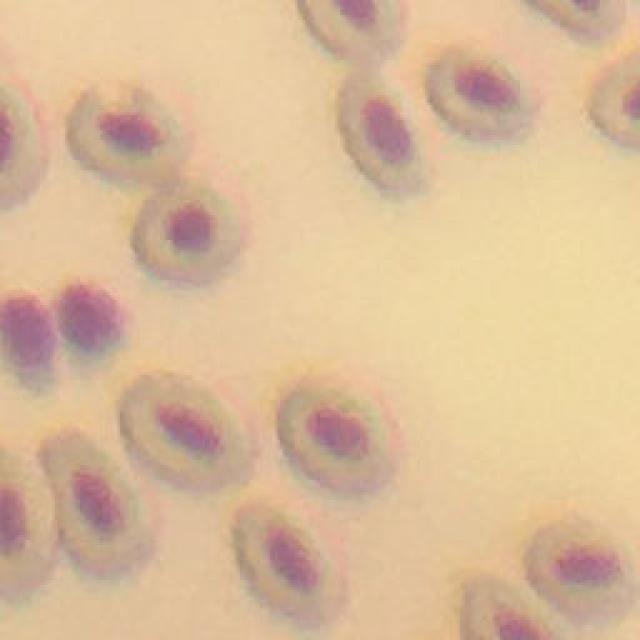RBC: (41, 432, 151, 576), (120, 375, 250, 488), (232, 502, 346, 627), (278, 381, 398, 493), (338, 68, 428, 196), (68, 88, 186, 185), (525, 521, 634, 622), (132, 186, 240, 284), (428, 50, 528, 139), (0, 448, 58, 598), (298, 0, 408, 66), (461, 578, 573, 640), (590, 51, 640, 147)
WBC: (59, 284, 121, 351), (0, 295, 56, 369)
